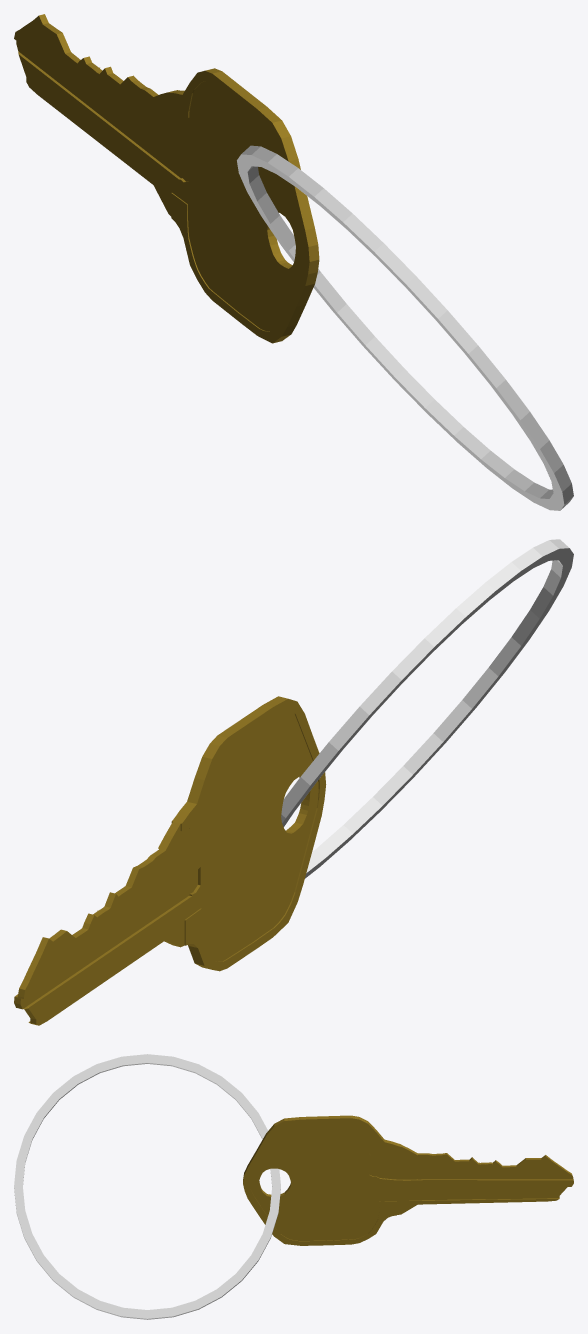
File: key2.glb
The picture shows the model from 3 angles, top to bottom: view 1: azimuth 30°, elevation 25°; view 2: azimuth 150°, elevation 25°; view 3: azimuth 270°, elevation 25°; orthographic projection. The views are drawn at different scales.
Parts seen in each view (by area): view 1: Cube, Cylinder; view 2: Cube, Cylinder; view 3: Cube, Cylinder.
Part boxes in pixels (left/top/right/bottom): Cube: left=14, top=14, right=319, bottom=343; Cylinder: left=237, top=145, right=573, bottom=510; Cube: left=14, top=696, right=326, bottom=1025; Cylinder: left=281, top=539, right=573, bottom=878; Cube: left=243, top=1115, right=573, bottom=1245; Cylinder: left=14, top=1054, right=280, bottom=1319.
Size of the model in its own units: 0.177 by 0.2703 by 0.6609.
2 materials, 1 textured.
